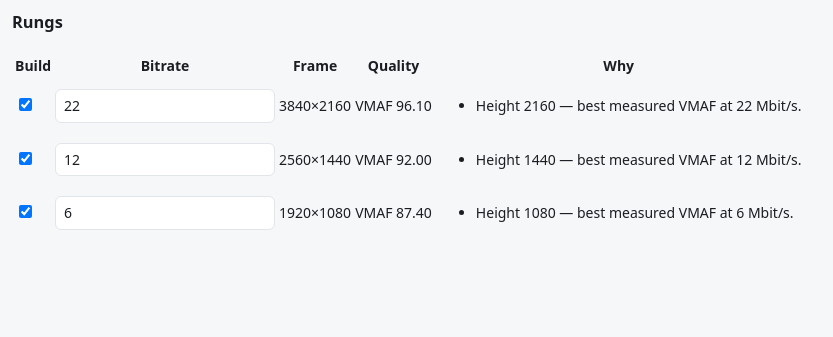
Test: editing a rung › shows an objection as soon as an edit makes one (FR-044)
Expected: the row with test id "rung-0" is shown, [14,80,803,132]
Replace the text in the number field named "Bitrate 1" with "90" at (165, 106), box [55,89,275,122]
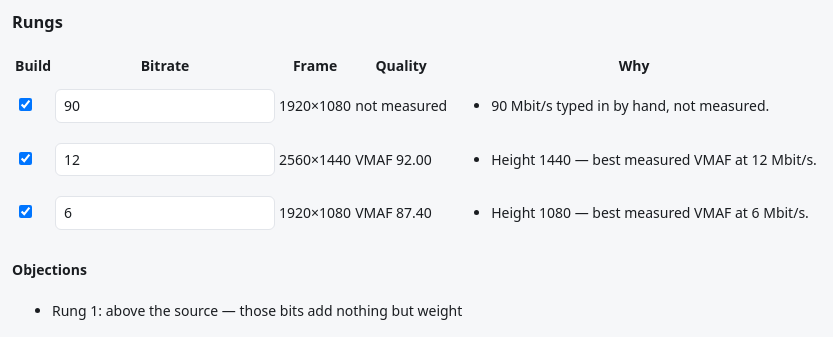
Now the message shows "above the source", box [52,301,462,320]
